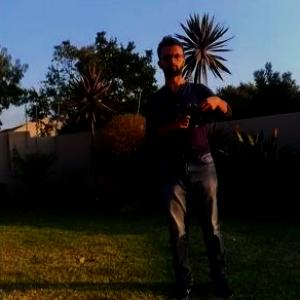follow: (141, 28, 240, 299)
